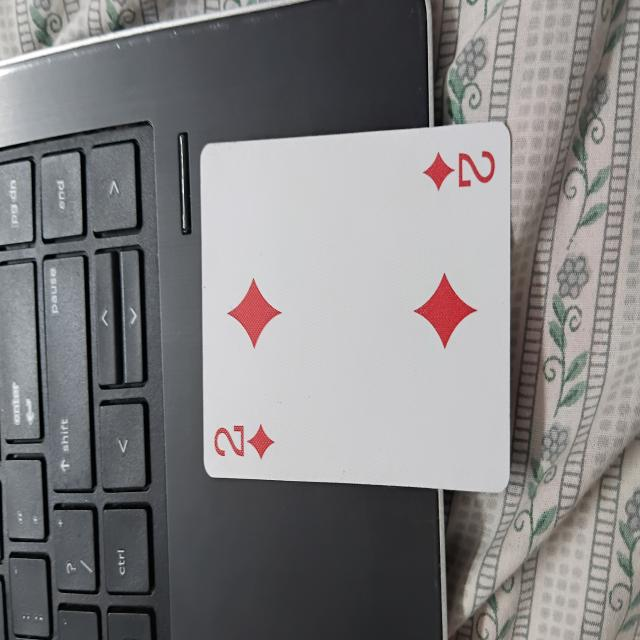2D: (200, 120, 513, 491)
